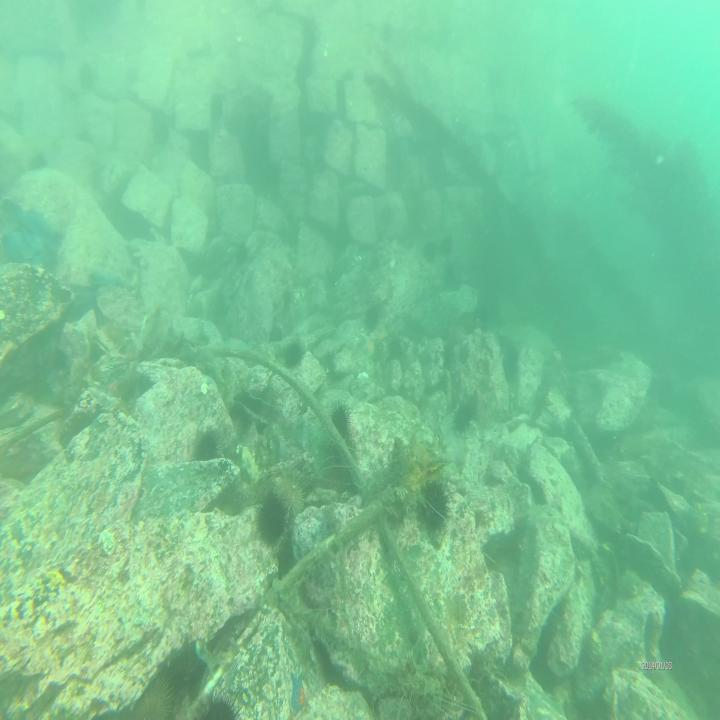echinus: (417, 473, 452, 536), (131, 674, 175, 720), (255, 489, 286, 547), (189, 689, 242, 720), (275, 470, 304, 522), (326, 398, 351, 440), (194, 428, 219, 465), (280, 338, 306, 370)
starfish: (288, 669, 308, 712), (360, 333, 376, 357)
